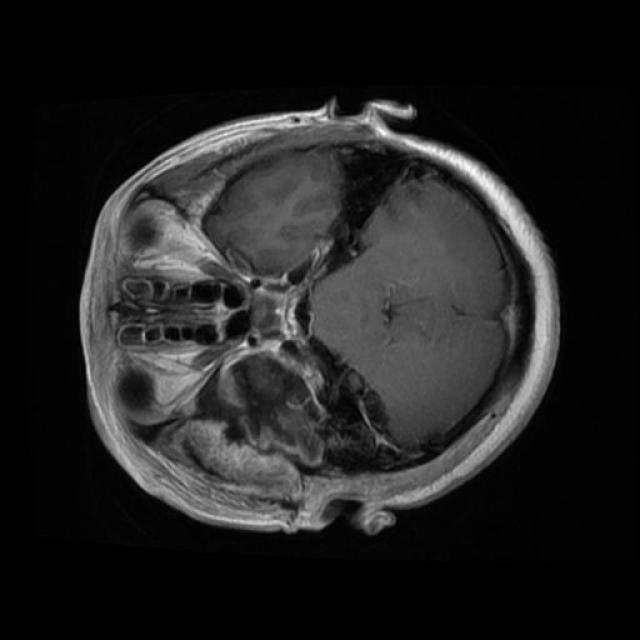Glioma: (178, 343, 326, 503)
